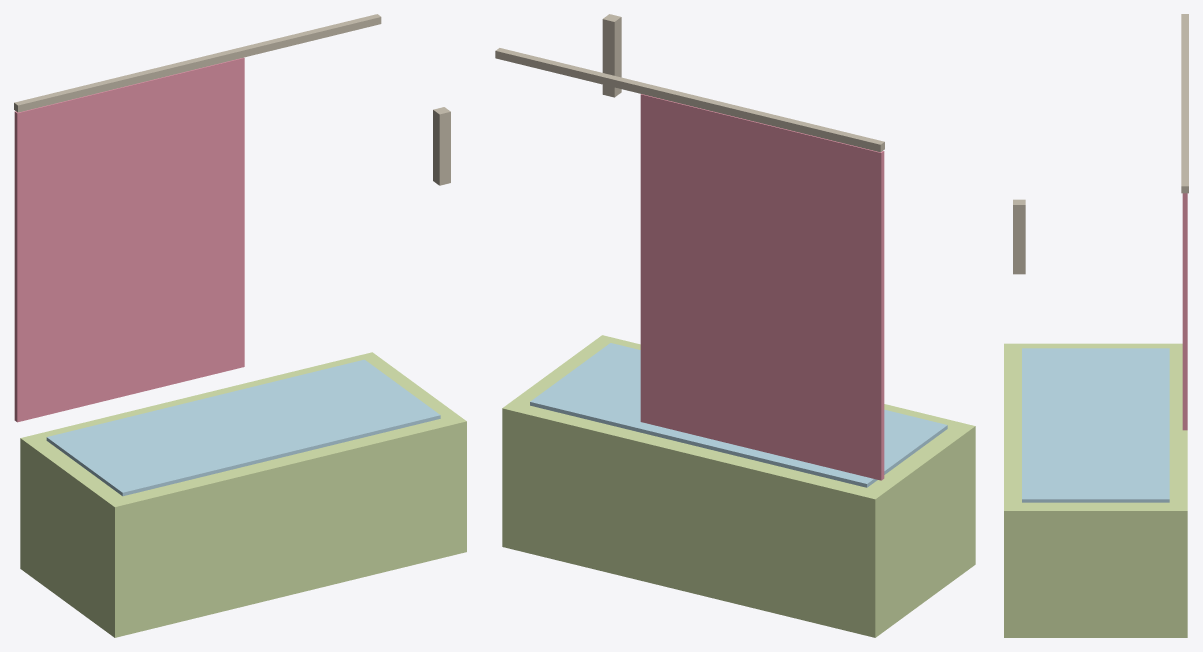
File: tub.glb
3 renders of one model, left to right at view 1: azimuth 30°, elevation 25°; view 2: azimuth 150°, elevation 25°; view 3: azimuth 270°, elevation 25°, orthographic. The views are drawn at different scales.
Visible parts, largest first — view 1: Box5, Box1, Box2, Box4, Box3; view 2: Box5, Box1, Box2, Box4, Box3; view 3: Box1, Box2, Box4, Box5, Box3.
Boxes of the visible parts, box(x1,y1,x2,y2) form: Box5: box(14, 57, 244, 422); Box1: box(20, 352, 466, 637); Box2: box(46, 359, 440, 496); Box4: box(14, 14, 381, 112); Box3: box(433, 107, 450, 185); Box5: box(640, 94, 884, 480); Box1: box(502, 335, 975, 637); Box2: box(530, 343, 947, 487); Box4: box(495, 48, 884, 152); Box3: box(602, 14, 621, 97); Box1: box(1004, 343, 1187, 637); Box2: box(1022, 348, 1169, 502); Box4: box(1181, 14, 1188, 193); Box5: box(1182, 193, 1187, 430); Box3: box(1013, 199, 1025, 274).
Bounding box in the file's own units: 1.6 × 1.97 × 0.725.
